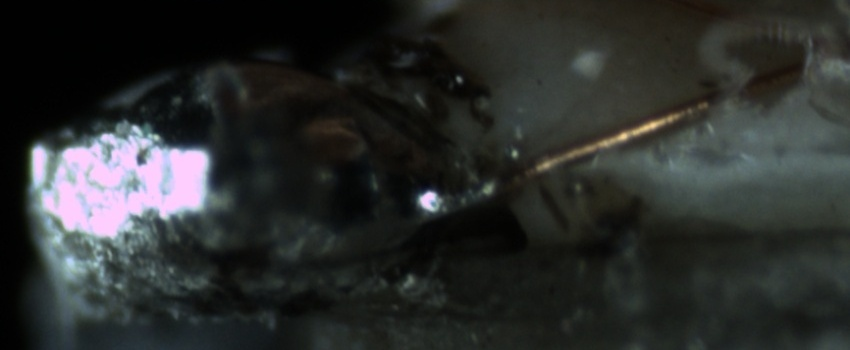TS: (429, 172, 504, 220)
